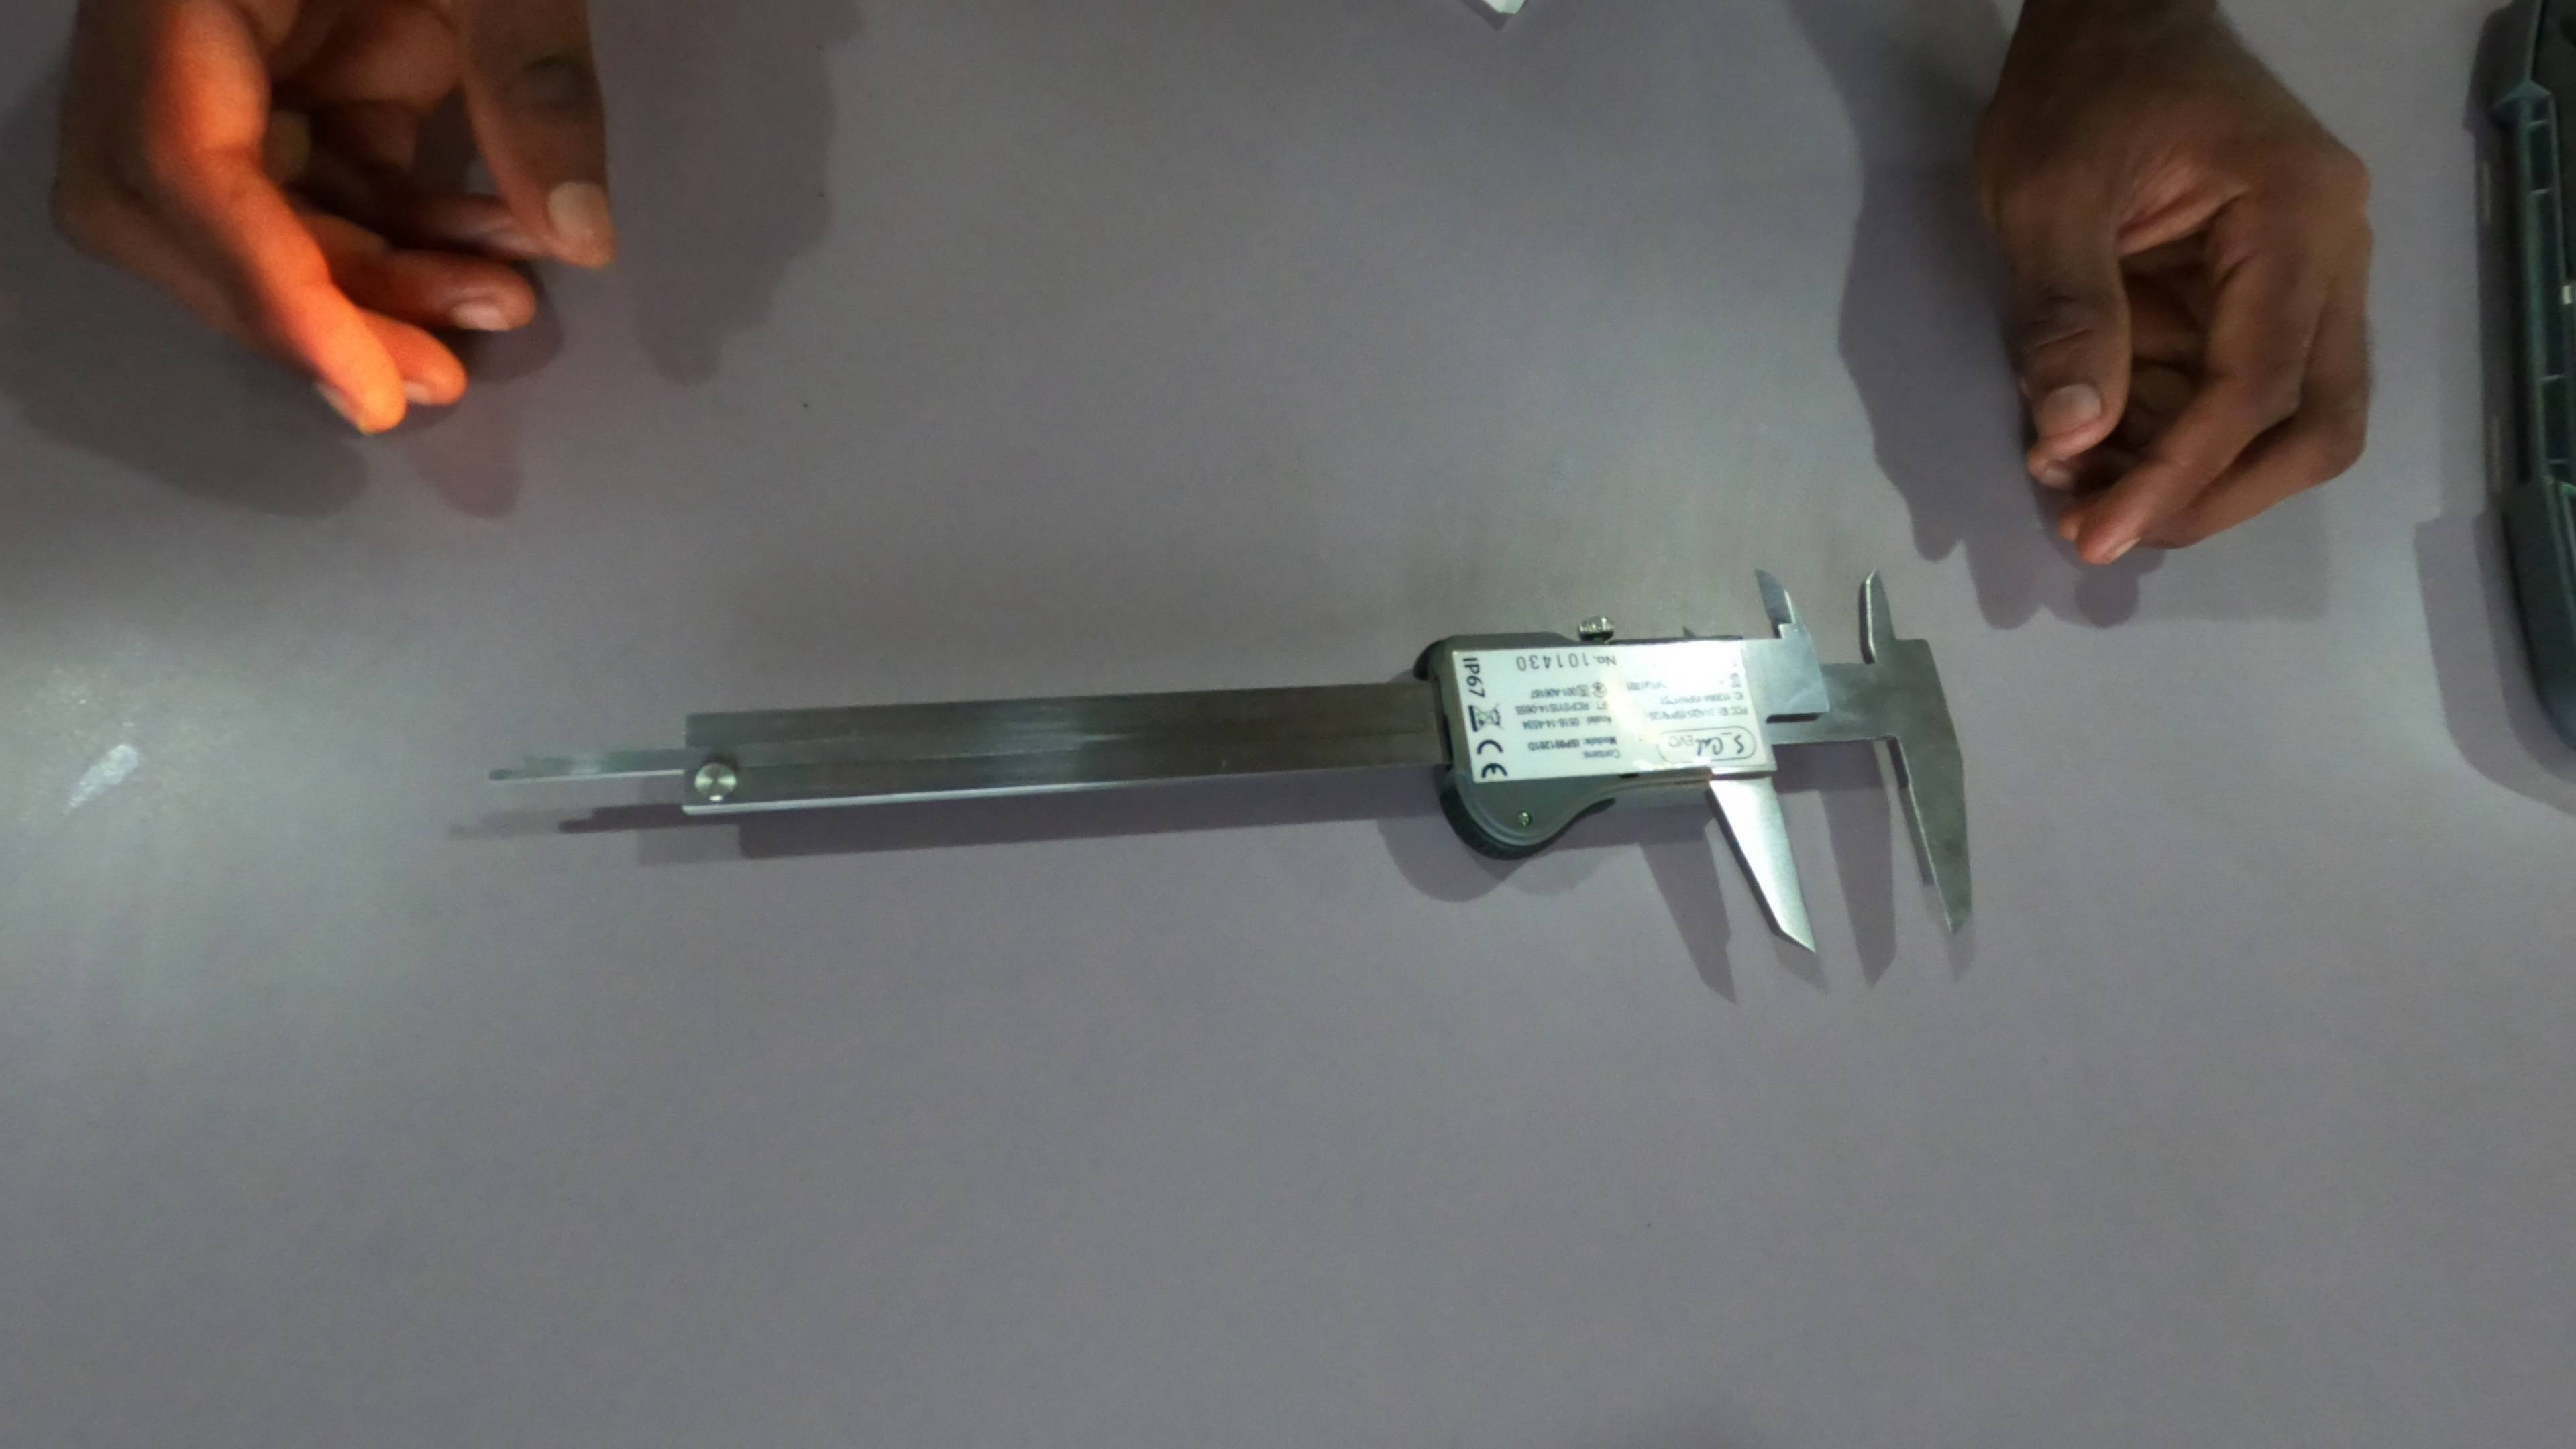vernier_caliper: (488, 563, 1982, 952)
